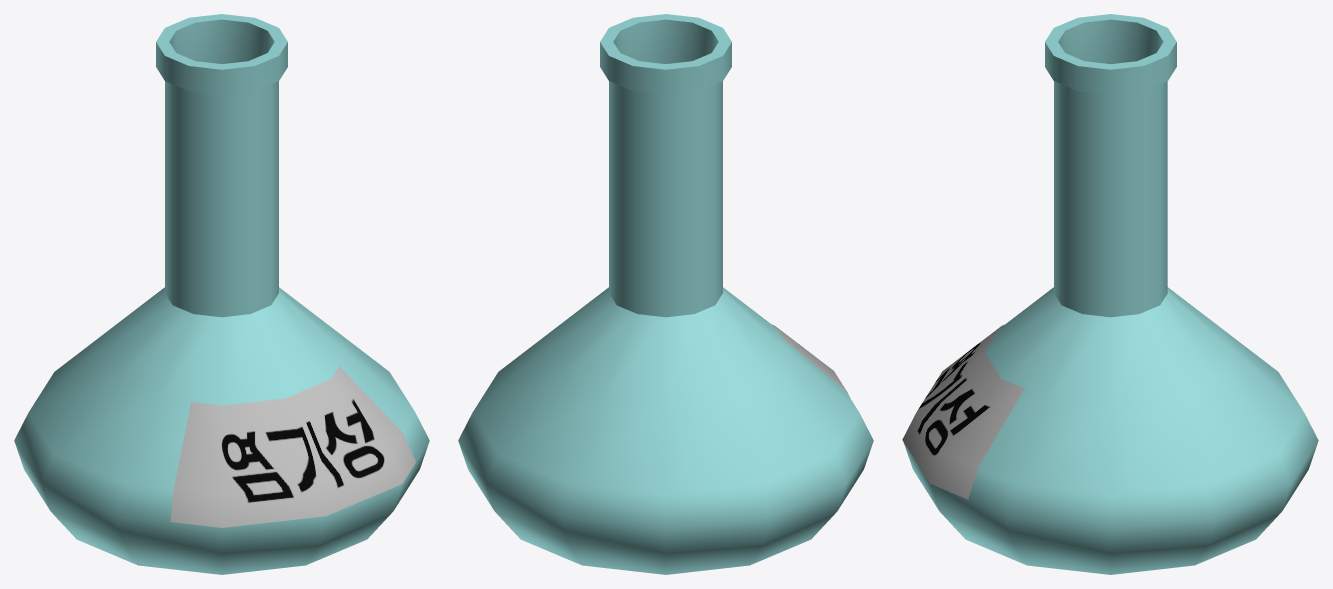
File: chem_Liquid.fbx
The picture shows the model from 3 angles, left to right: view 1: azimuth 30°, elevation 25°; view 2: azimuth 150°, elevation 25°; view 3: azimuth 270°, elevation 25°; orthographic projection.
Parts seen in each view (by area): view 1: Liquid; view 2: Liquid; view 3: Liquid.
Part boxes in pixels (left/top/right/bottom): Liquid: left=14, top=14, right=429, bottom=574; Liquid: left=458, top=14, right=873, bottom=574; Liquid: left=902, top=14, right=1318, bottom=574.
Size of the model in its own units: 0.3262 by 0.4002 by 0.3268.
